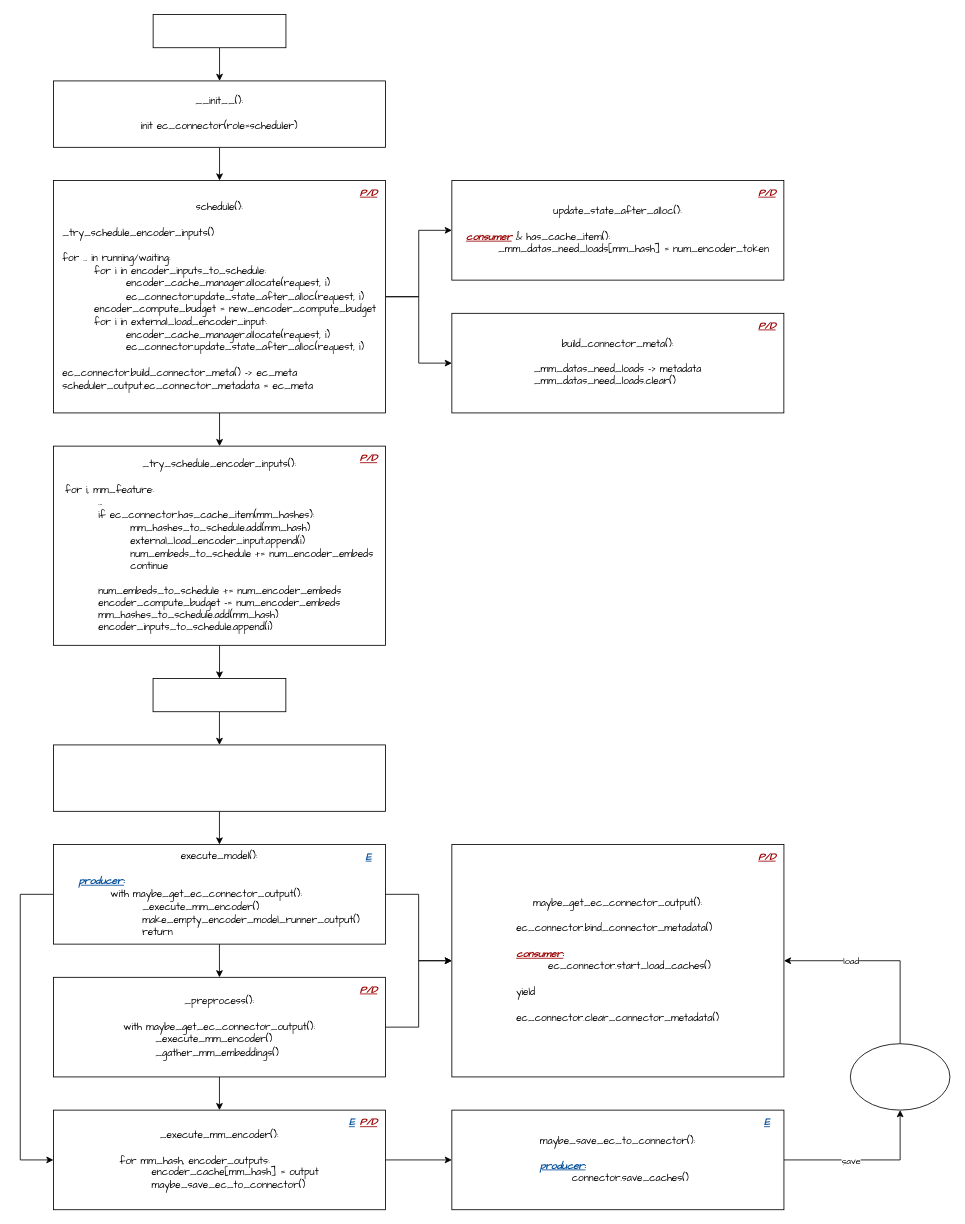
Some shapes in this 965 by 1224 pixel diagram are drawn without their labels. Each missing label, with the centre of its shape:
"Encoder Cache" belongs at (x=900, y=1076).
"init_from_config(): init ec_connector( role=worker)" belongs at (x=219, y=777).
"Scheduler" belongs at (x=219, y=31).
"Worker" belongs at (x=219, y=695).
